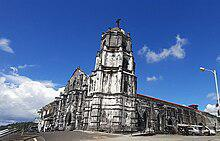daraga_church_daraga_albay: (58, 16, 140, 134)
